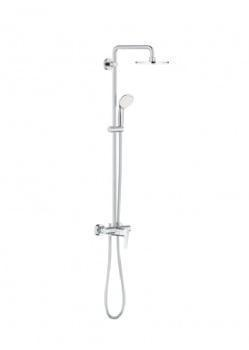Ducha: (89, 30, 178, 314)
